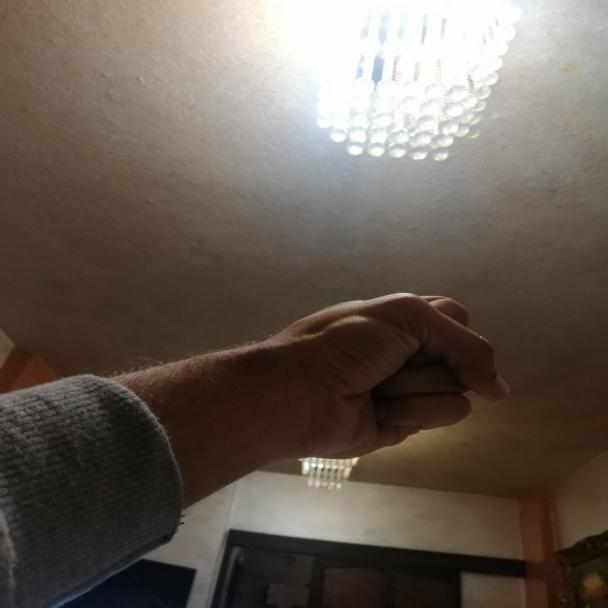five: (247, 288, 538, 479)
